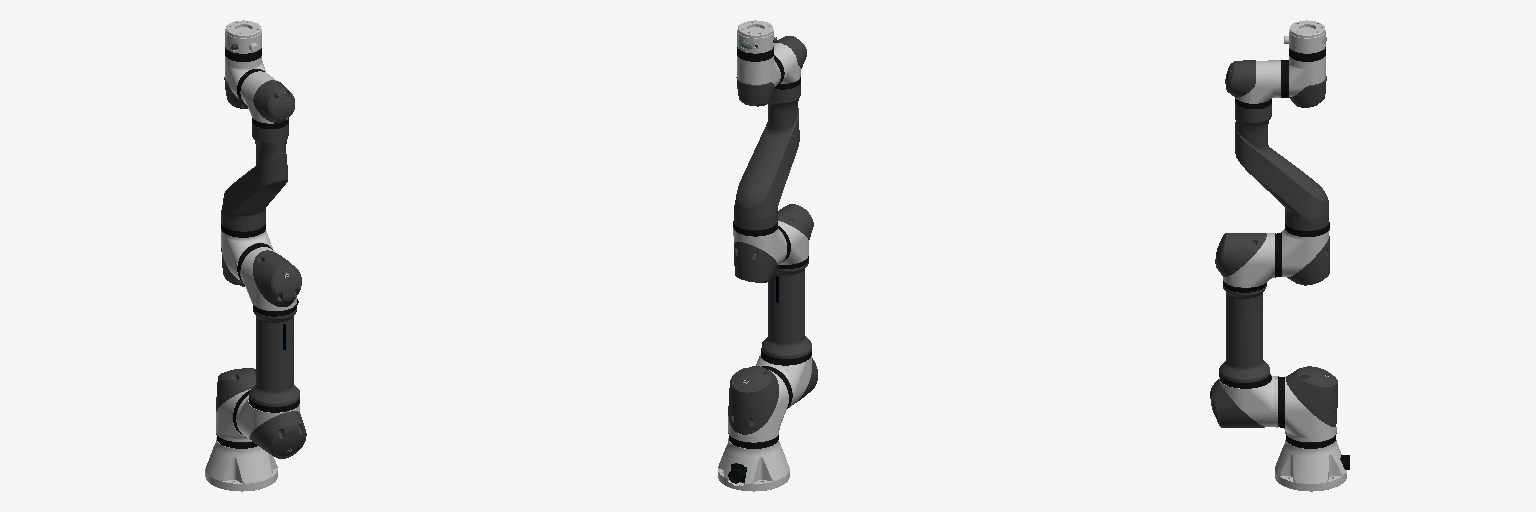
robot.urdf — rb3_730es_u:
<?xml version="1.0" ?>
<!-- =================================================================================== -->
<!-- |    This document was autogenerated by xacro from rb3_730es_u.urdf.xacro         | -->
<!-- |    EDITING THIS FILE BY HAND IS NOT RECOMMENDED                                 | -->
<!-- =================================================================================== -->
<robot name="rb3_730es_u">
  <link name="link0">
    <visual>
      <geometry>
        <mesh filename="package://rbpodo_description/meshes/rb3_730es_u/visual/link0.dae"/>
      </geometry>
    </visual>
    <collision>
      <geometry>
        <mesh filename="package://rbpodo_description/meshes/rb3_730es_u/collision/link0.stl"/>
      </geometry>
    </collision>
  </link>
  <link name="link1">
    <visual>
      <geometry>
        <mesh filename="package://rbpodo_description/meshes/rb3_730es_u/visual/link1.dae"/>
      </geometry>
    </visual>
    <collision>
      <geometry>
        <mesh filename="package://rbpodo_description/meshes/rb3_730es_u/collision/link1.stl"/>
      </geometry>
    </collision>
    <inertial>
      <origin rpy="0 0 0" xyz="0.000101 -0.003241 -0.017587"/>
      <mass value="2.058"/>
      <inertia ixx="0.003" ixy="0.0" ixz="0.0" iyy="0.003" iyz="0.0" izz="0.002"/>
    </inertial>
  </link>
  <link name="link2">
    <visual>
      <geometry>
        <mesh filename="package://rbpodo_description/meshes/rb3_730es_u/visual/link2.dae"/>
      </geometry>
    </visual>
    <collision>
      <geometry>
        <mesh filename="package://rbpodo_description/meshes/rb3_730es_u/collision/link2.stl"/>
      </geometry>
    </collision>
    <inertial>
      <origin rpy="0 0 0" xyz="-0.000049 -0.095326 0.121743"/>
      <mass value="4.227"/>
      <inertia ixx="0.075" ixy="0.0" ixz="0.0" iyy="0.073" iyz="0.0" izz="0.005"/>
    </inertial>
  </link>
  <link name="link3">
    <visual>
      <geometry>
        <mesh filename="package://rbpodo_description/meshes/rb3_730es_u/visual/link3.dae"/>
      </geometry>
    </visual>
    <collision>
      <geometry>
        <mesh filename="package://rbpodo_description/meshes/rb3_730es_u/collision/link3.stl"/>
      </geometry>
    </collision>
    <inertial>
      <origin rpy="0 0 0" xyz="-0.0 -0.004 0.026"/>
      <mass value="1.45"/>
      <inertia ixx="0.002" ixy="0.0" ixz="0.0" iyy="0.002" iyz="0.0" izz="0.001"/>
    </inertial>
  </link>
  <link name="link4">
    <visual>
      <geometry>
        <mesh filename="package://rbpodo_description/meshes/rb3_730es_u/visual/link4.dae"/>
      </geometry>
    </visual>
    <collision>
      <geometry>
        <mesh filename="package://rbpodo_description/meshes/rb3_730es_u/collision/link4.stl"/>
      </geometry>
    </collision>
    <inertial>
      <origin rpy="0 0 0" xyz="0.0 -0.065 0.264"/>
      <mass value="1.798"/>
      <inertia ixx="0.02" ixy="0.0" ixz="0.0" iyy="0.018" iyz="0.004" izz="0.003"/>
    </inertial>
  </link>
  <link name="link5">
    <visual>
      <geometry>
        <mesh filename="package://rbpodo_description/meshes/rb3_730es_u/visual/link5.dae"/>
      </geometry>
    </visual>
    <collision>
      <geometry>
        <mesh filename="package://rbpodo_description/meshes/rb3_730es_u/collision/link5.stl"/>
      </geometry>
    </collision>
    <inertial>
      <origin rpy="0 0 0" xyz="0.0 -0.001 0.017"/>
      <mass value="0.944"/>
      <inertia ixx="0.000776694" ixy="5.052e-06" ixz="-5.306e-06" iyy="0.000786695" iyz="-1.7419e-05" izz="0.000515123"/>
    </inertial>
  </link>
  <link name="link6">
    <visual>
      <geometry>
        <mesh filename="package://rbpodo_description/meshes/rb3_730es_u/visual/link6.dae"/>
      </geometry>
    </visual>
    <collision>
      <geometry>
        <mesh filename="package://rbpodo_description/meshes/rb3_730es_u/collision/link6.stl"/>
      </geometry>
    </collision>
    <inertial>
      <origin rpy="0 0 0" xyz="-0.001 -0.001 0.068"/>
      <mass value="0.05"/>
      <inertia ixx="2.6302e-05" ixy="-3.4e-07" ixz="4.57e-07" iyy="1.6887e-05" iyz="1.48e-07" izz="3.5232e-05"/>
    </inertial>
  </link>
  <link name="tcp"/>
  <joint name="base" type="revolute">
    <origin rpy="0 0 0" xyz="0 0 0.1453"/>
    <parent link="link0"/>
    <child link="link1"/>
    <axis xyz="0 0 1"/>
    <limit effort="10" lower="-3.14" upper="3.14" velocity="3.14"/>
  </joint>
  <joint name="shoulder" type="revolute">
    <origin rpy="0 0 0" xyz="0 0 0"/>
    <parent link="link1"/>
    <child link="link2"/>
    <axis xyz="0 1 0"/>
    <limit effort="10" lower="-3.14" upper="3.14" velocity="3.14"/>
  </joint>
  <joint name="elbow" type="revolute">
    <origin rpy="0 0 0" xyz="0 -0.00645 0.286"/>
    <parent link="link2"/>
    <child link="link3"/>
    <axis xyz="0 1 0"/>
    <limit effort="10" lower="-3.14" upper="3.14" velocity="3.14"/>
  </joint>
  <joint name="wrist1" type="revolute">
    <origin rpy="0 0 0" xyz="0 0 0"/>
    <parent link="link3"/>
    <child link="link4"/>
    <axis xyz="0 0 1"/>
    <limit effort="10" lower="-3.14" upper="3.14" velocity="3.14"/>
  </joint>
  <joint name="wrist2" type="revolute">
    <origin rpy="0 0 0" xyz="0 0 0.344"/>
    <parent link="link4"/>
    <child link="link5"/>
    <axis xyz="0 1 0"/>
    <limit effort="10" lower="-3.14" upper="3.14" velocity="3.14"/>
  </joint>
  <joint name="wrist3" type="revolute">
    <origin rpy="0 0 0" xyz="0 0 0"/>
    <parent link="link5"/>
    <child link="link6"/>
    <axis xyz="0 0 1"/>
    <limit effort="10" lower="-3.14" upper="3.14" velocity="3.14"/>
  </joint>
  <joint name="tcp_joint" type="fixed">
    <origin rpy="0 0 0" xyz="0 0 0.1"/>
    <parent link="link6"/>
    <child link="tcp"/>
  </joint>
  <ros2_control name="RBPodoHardwareInterface" type="system">
    <hardware>
      <plugin>rbpodo_hardware/RBPodoHardwareInterface</plugin>
      <param name="cb_simulation">True</param>
      <param name="robot_ip">10.0.2.7</param>
    </hardware>
    <joint name="base">
      <param name="initial_position">0.0</param>
      <param name="torque_constant">10.100000000000001</param>
      <command_interface name="effort"/>
      <command_interface name="velocity"/>
      <command_interface name="position"/>
      <state_interface name="position"/>
      <state_interface name="effort"/>
    </joint>
    <joint name="shoulder">
      <param name="initial_position">0.0</param>
      <param name="torque_constant">10.100000000000001</param>
      <command_interface name="effort"/>
      <command_interface name="velocity"/>
      <command_interface name="position"/>
      <state_interface name="position"/>
      <state_interface name="effort"/>
    </joint>
    <joint name="elbow">
      <param name="initial_position">0.0</param>
      <param name="torque_constant">10.100000000000001</param>
      <command_interface name="effort"/>
      <command_interface name="velocity"/>
      <command_interface name="position"/>
      <state_interface name="position"/>
      <state_interface name="effort"/>
    </joint>
    <joint name="wrist1">
      <param name="initial_position">0.0</param>
      <param name="torque_constant">10.100000000000001</param>
      <command_interface name="effort"/>
      <command_interface name="velocity"/>
      <command_interface name="position"/>
      <state_interface name="position"/>
      <state_interface name="effort"/>
    </joint>
    <joint name="wrist2">
      <param name="initial_position">0.0</param>
      <param name="torque_constant">5.5</param>
      <command_interface name="effort"/>
      <command_interface name="velocity"/>
      <command_interface name="position"/>
      <state_interface name="position"/>
      <state_interface name="effort"/>
    </joint>
    <joint name="wrist3">
      <param name="initial_position">0.0</param>
      <param name="torque_constant">5.5</param>
      <command_interface name="effort"/>
      <command_interface name="velocity"/>
      <command_interface name="position"/>
      <state_interface name="position"/>
      <state_interface name="effort"/>
    </joint>
  </ros2_control>
</robot>

--- Facts derived from the render (not from the file) ---
Views: 3 orthographic renders of the robot side by side, from view 1: azimuth 30°, elevation 25°; view 2: azimuth 150°, elevation 25°; view 3: azimuth 270°, elevation 25°.
Model rb3_730es_u with 8 links and 7 joints (6 revolute, 1 fixed), rooted at link0, posed all joints at 0.
Visible links, largest first — view 1: link2, link4, link0, link1, link3, link5, link6; view 2: link4, link2, link1, link0, link3, link5, link6; view 3: link2, link4, link1, link0, link3, link5, link6.
Link boxes in pixels (box(x1,y1,x2,y2)): link2: box(236, 247, 306, 458); link4: box(221, 69, 294, 231); link0: box(205, 436, 277, 491); link1: box(216, 368, 255, 442); link3: box(221, 223, 272, 286); link5: box(224, 49, 265, 108); link6: box(225, 20, 261, 54); link4: box(734, 36, 806, 229); link2: box(756, 204, 817, 408); link1: box(728, 366, 791, 443); link0: box(718, 436, 789, 491); link3: box(733, 221, 789, 282); link5: box(736, 48, 780, 106); link6: box(737, 20, 776, 54); link2: box(1210, 233, 1277, 427); link4: box(1225, 60, 1328, 230); link1: box(1278, 366, 1337, 442); link0: box(1275, 436, 1349, 491); link3: box(1276, 222, 1329, 285); link5: box(1289, 48, 1326, 107); link6: box(1284, 20, 1326, 54).
Size in the robot's own frame: 0.128 by 0.247 by 0.8753 metres.
7 mesh visuals loaded from 7 distinct referenced files (7 Collada DAE).
